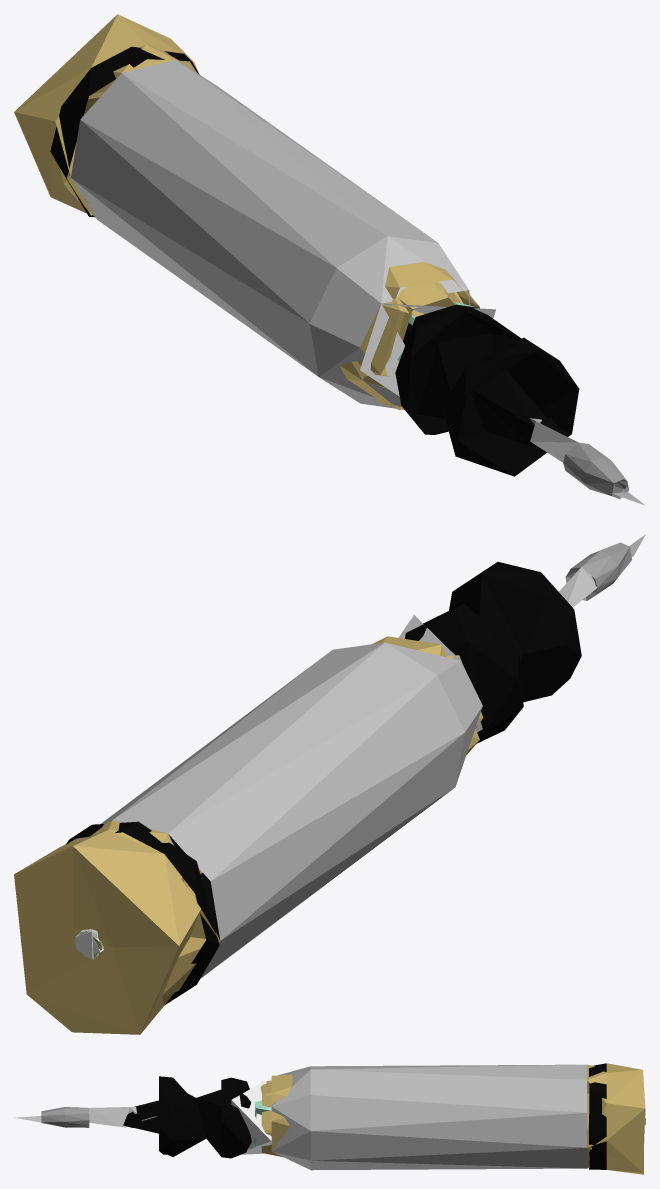
The picture shows the model from 3 angles, top to bottom: view 1: azimuth 30°, elevation 25°; view 2: azimuth 150°, elevation 25°; view 3: azimuth 270°, elevation 25°; orthographic projection. The views are drawn at different scales.
Visible parts, largest first — view 1: O_ip_m829lo__Cbbb, O_ip_m829lo__C000, O_ip_m829lo__Ccb6, O_ip_m829lo__C999, O_ip_m829lo__Ceee; view 2: O_ip_m829lo__Cbbb, O_ip_m829lo__Ccb6, O_ip_m829lo__C000, O_ip_m829lo__C999; view 3: O_ip_m829lo__Cbbb, O_ip_m829lo__C000, O_ip_m829lo__Ccb6, O_ip_m829lo__Ceee, O_ip_m829lo__C999, O_ip_m829lo__Caec.
Part boxes in pixels (x1,y1,x2,y2): O_ip_m829lo__Cbbb: (71,60,645,505); O_ip_m829lo__C000: (50,46,579,476); O_ip_m829lo__Ccb6: (14,14,479,410); O_ip_m829lo__C999: (563,442,628,498); O_ip_m829lo__Ceee: (360,303,495,396); O_ip_m829lo__Cbbb: (101,534,645,978); O_ip_m829lo__Ccb6: (14,636,483,1034); O_ip_m829lo__C000: (66,562,581,1004); O_ip_m829lo__C999: (565,542,631,600); O_ip_m829lo__Cbbb: (14,1064,586,1170); O_ip_m829lo__C000: (123,1063,606,1169); O_ip_m829lo__Ccb6: (260,1063,645,1174); O_ip_m829lo__Ceee: (231,1077,271,1154); O_ip_m829lo__C999: (41,1107,89,1127); O_ip_m829lo__Caec: (250,1100,271,1150).
Size of the model in its own units: 0.4569 by 0.4712 by 2.57.
